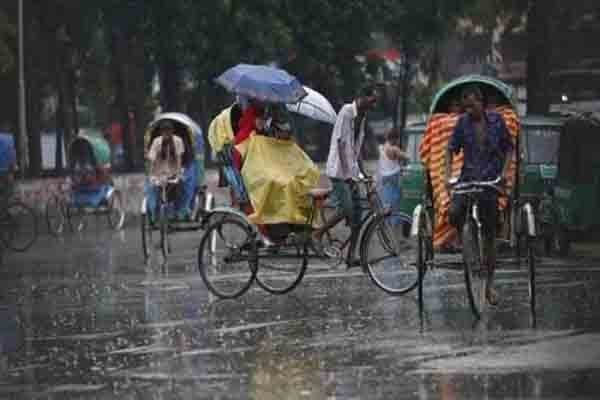Rickshaw: (196, 81, 421, 292), (414, 52, 534, 320), (144, 101, 205, 251), (50, 125, 122, 227), (1, 123, 35, 249)
